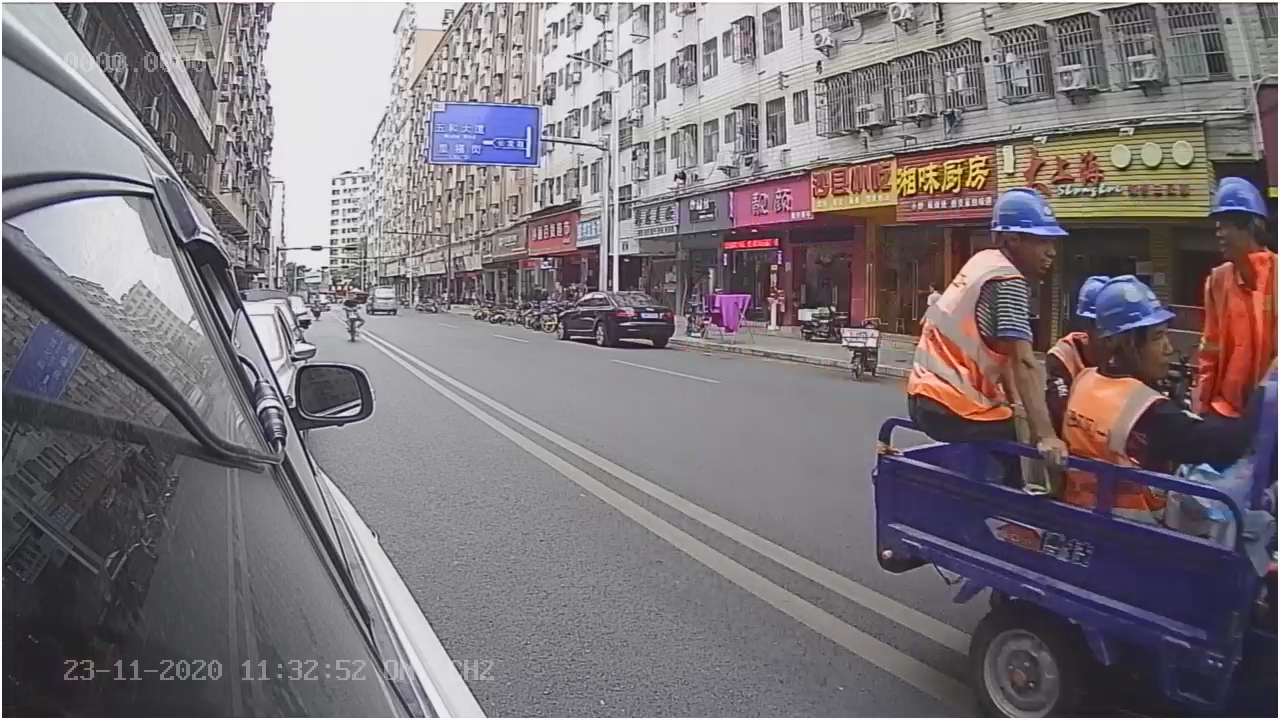person: (904, 171, 1068, 418)
